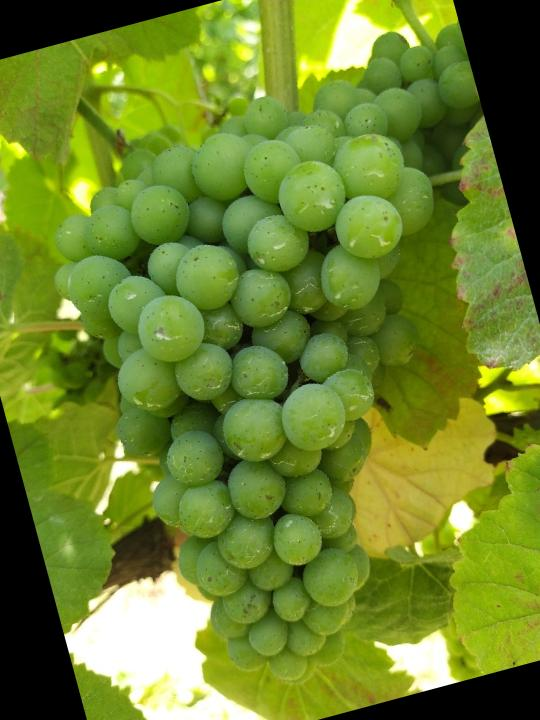grape: (20, 72, 540, 720)
